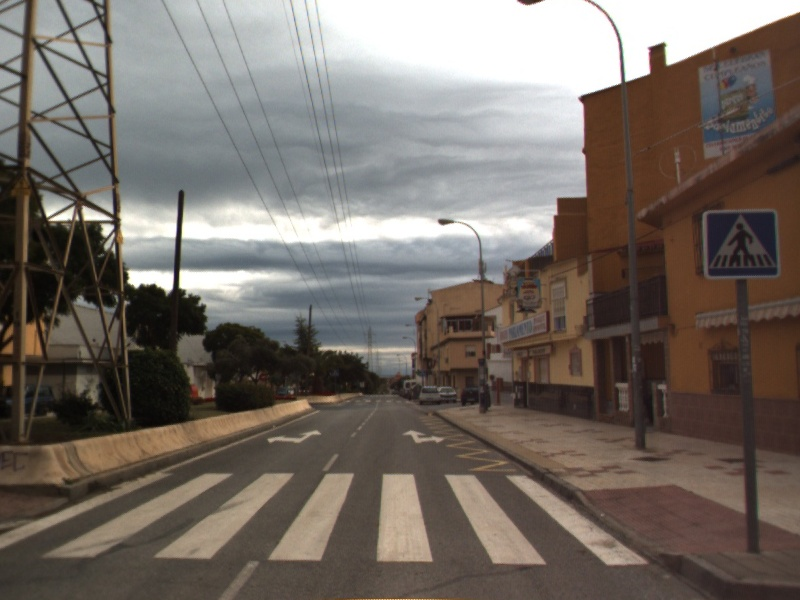STRAIGHT_LEFT: (265, 427, 324, 446)
STRAIGHT_RIGHT: (400, 428, 447, 445)
